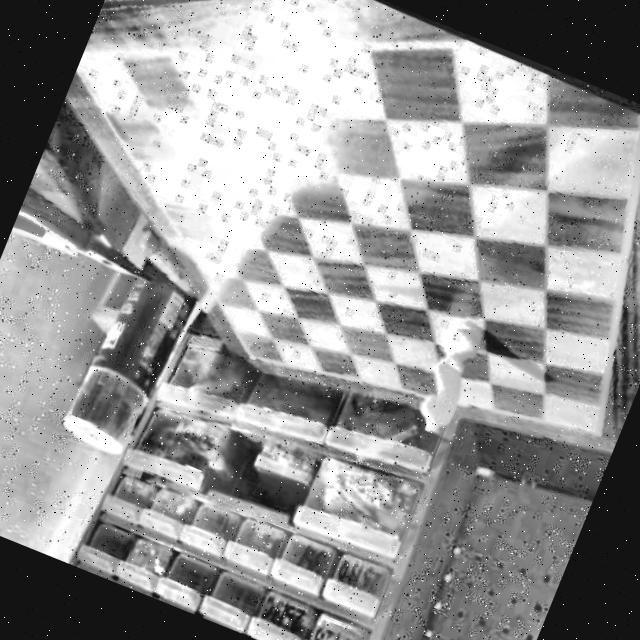white-knight: (402, 304, 498, 438)
